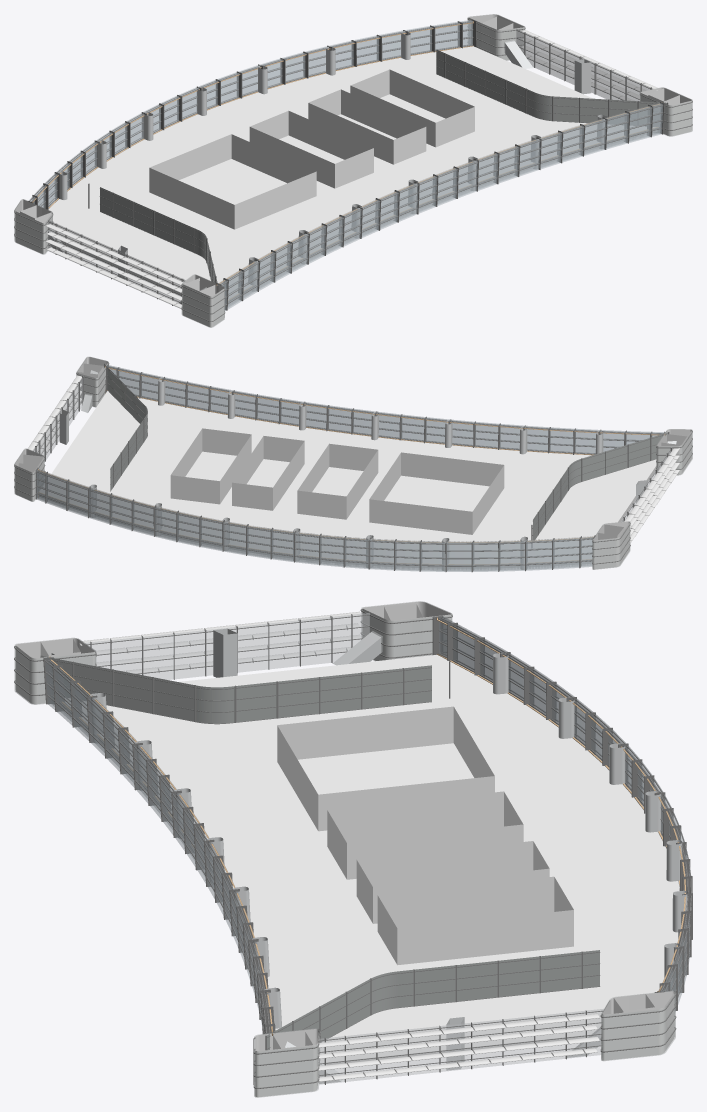
3 renders of one model, top to bottom at view 1: azimuth 30°, elevation 25°; view 2: azimuth 150°, elevation 25°; view 3: azimuth 270°, elevation 25°, orthographic. The views are drawn at different scales.
Visible parts, largest first — view 1: floor.033; view 2: floor.033; view 3: floor.033.
Part boxes in pixels (bbox=[...]): floor.033: bbox=[14, 14, 692, 327]; floor.033: bbox=[14, 356, 692, 572]; floor.033: bbox=[14, 601, 692, 1097].
Size of the model in its own units: 81.99 by 3.9 by 52.16.
14 materials, 1 textured.
